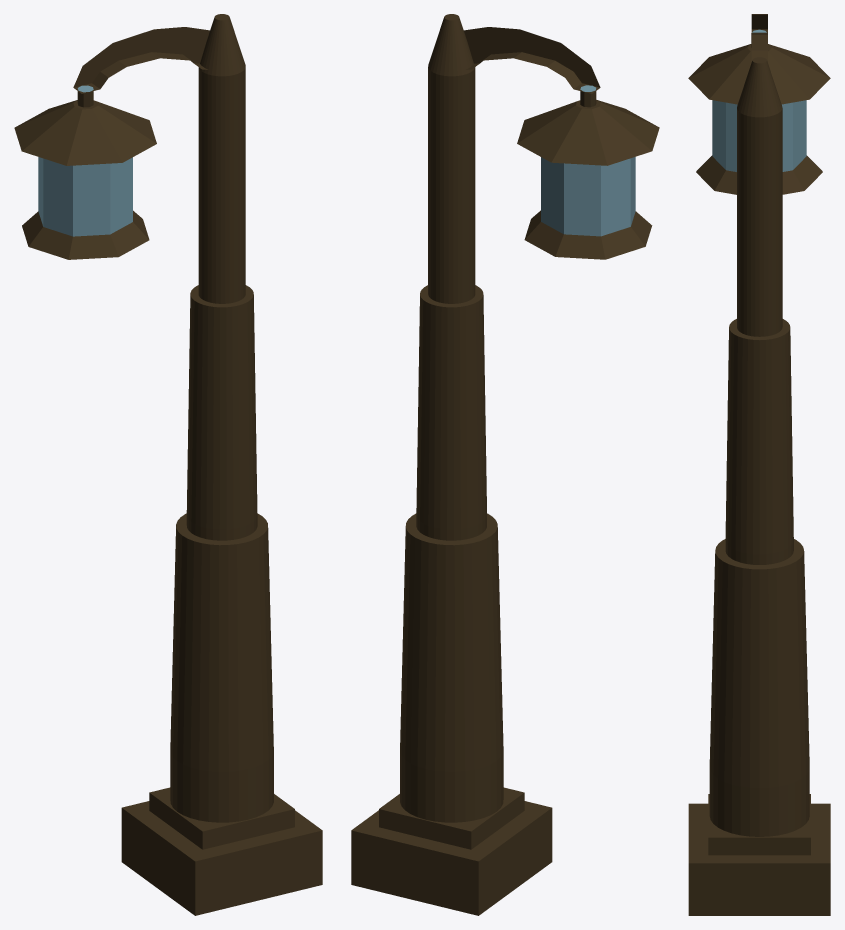
Rendered from Lantaarnpaal_AlexBlok.fbx.
3 renders of one model, left to right at view 1: azimuth 30°, elevation 25°; view 2: azimuth 150°, elevation 25°; view 3: azimuth 270°, elevation 25°, orthographic. The views are drawn at different scales.
Parts seen in each view (by area): view 1: Cube; view 2: Cube; view 3: Cube.
Boxes of the visible parts, <box> form: Cube: <box>14,14,322,915</box>; Cube: <box>351,14,659,915</box>; Cube: <box>688,14,830,915</box>.
Bounding box in the file's own units: 92.93 × 288 × 45.
